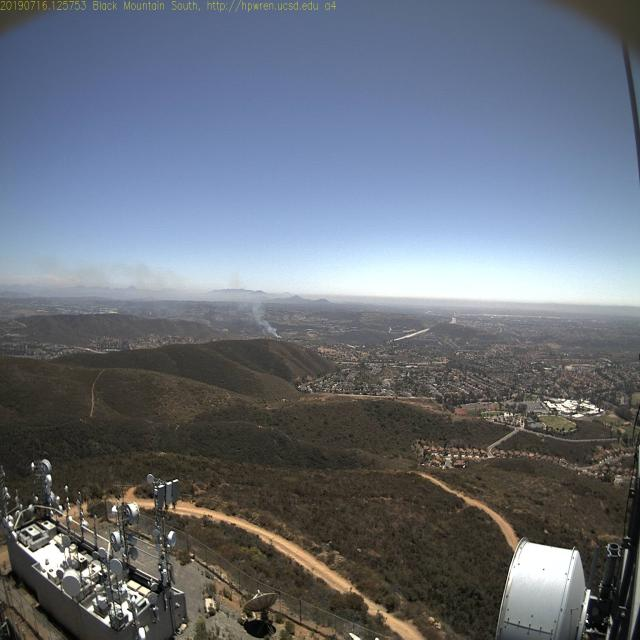smoke: (252, 300, 308, 370)
